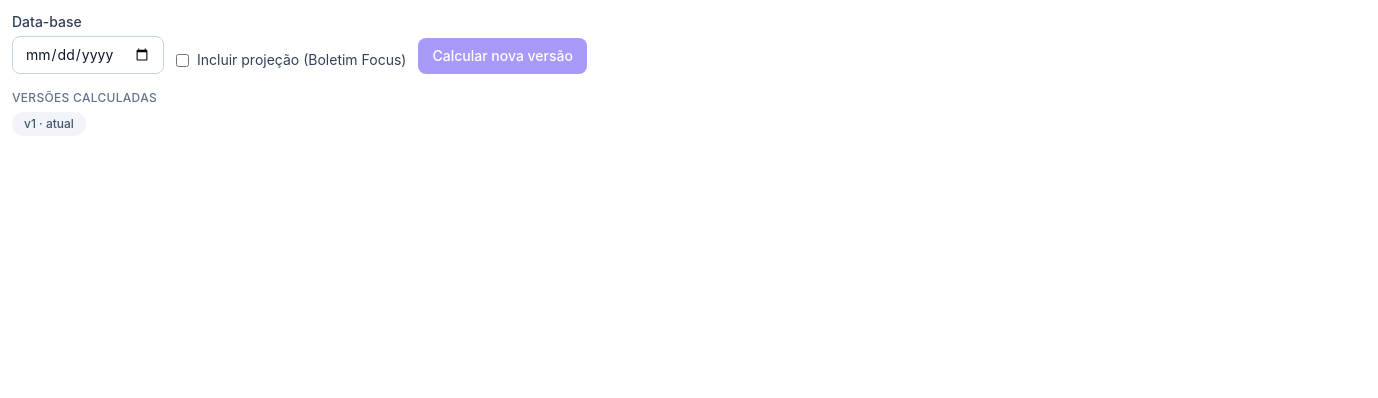
Test: AbaMemoria › calcula e mostra a tabela + alerta
The width and height of the screenshot is (1378, 398).
Type "2024-10-01" into the date field labelled "Data-base" at (88, 55), box [12, 36, 164, 74]
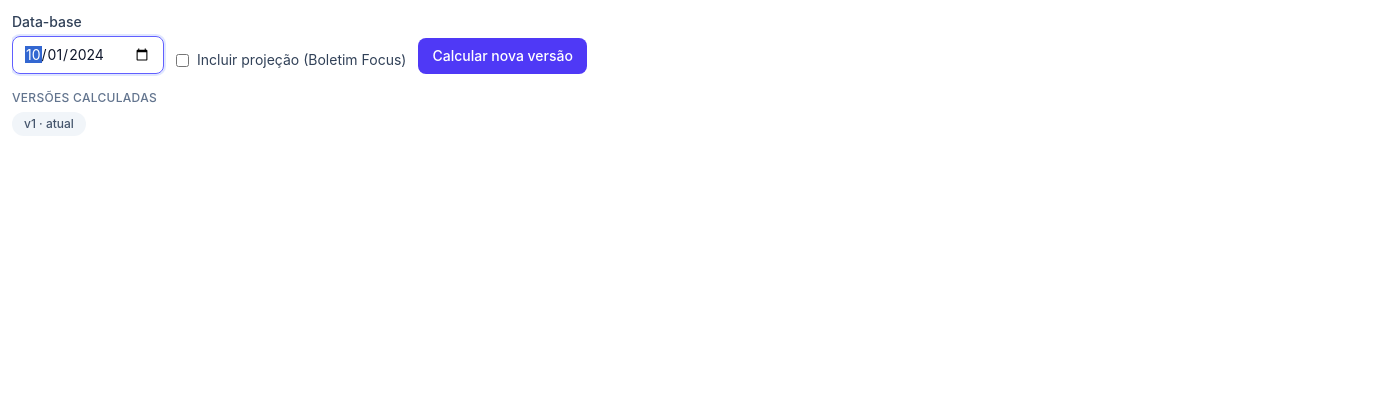
Click the button "Calcular nova versão" at (503, 56), box [418, 38, 587, 74]
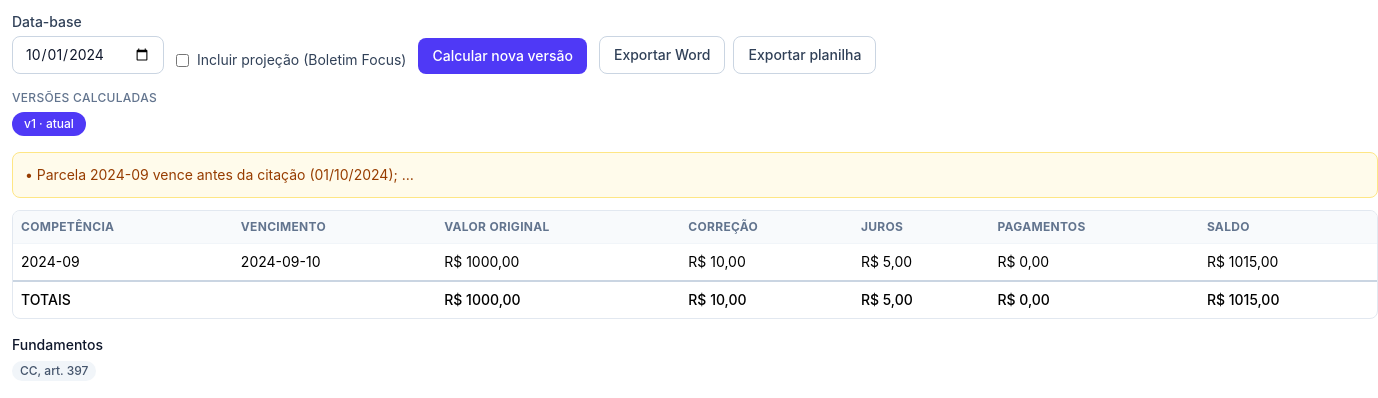
Expected: the column heading "Competência" is shown, [13, 211, 233, 244]
Expected: the message shows "vence antes da citação", [37, 166, 414, 183]
Expected: the text "TOTAIS" is shown, [13, 281, 436, 318]
